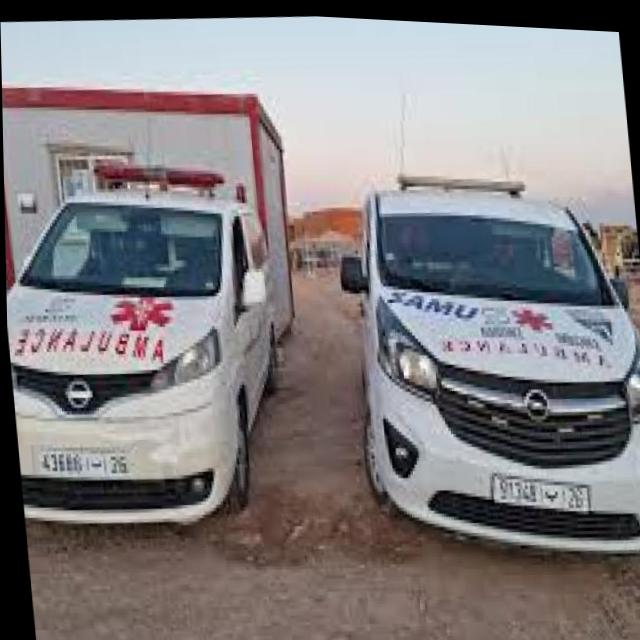ambulance: (331, 129, 640, 566), (2, 125, 297, 557)
